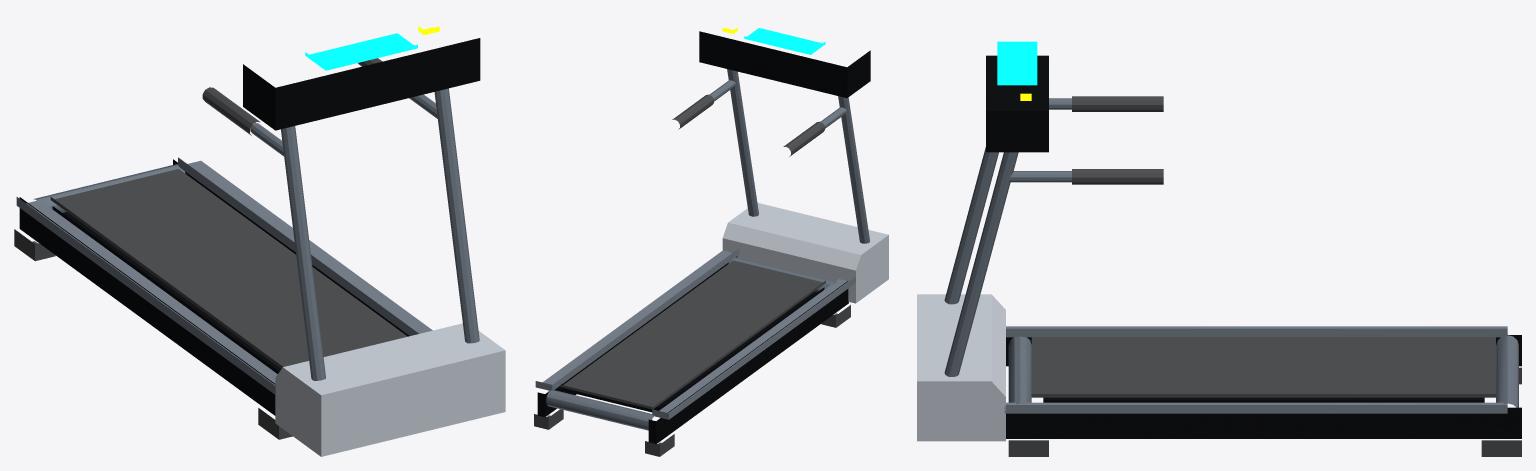
Rendered from tt_gym_treadmill.glb.
3 renders of one model, left to right at view 1: azimuth 30°, elevation 25°; view 2: azimuth 150°, elevation 25°; view 3: azimuth 270°, elevation 25°, orthographic. The views are drawn at different scales.
Parts seen in each view (by area): view 1: Belt, Motor_Hood, Side_Rails, Console, Uprights_Handrails, Frame_Rails, Console_Screen_LED, Deck_Board, Grip_Pads, Feet, Rollers_Hardware; view 2: Belt, Motor_Hood, Side_Rails, Console, Frame_Rails, Uprights_Handrails, Rollers_Hardware, Deck_Board, Feet, Grip_Pads, Console_Screen_LED; view 3: Belt, Frame_Rails, Motor_Hood, Side_Rails, Uprights_Handrails, Console, Rollers_Hardware, Grip_Pads, Deck_Board, Console_Screen_LED, Feet.
Boxes of the visible parts, box(x1,y1,x2,y2) form: Belt: box(50, 169, 407, 368); Motor_Hood: box(275, 323, 505, 456); Side_Rails: box(16, 157, 432, 394); Console: box(243, 38, 480, 130); Uprights_Handrails: box(250, 88, 479, 380); Frame_Rails: box(19, 159, 409, 415); Console_Screen_LED: box(305, 33, 417, 70); Deck_Board: box(52, 206, 281, 373); Grip_Pads: box(202, 58, 382, 135); Feet: box(14, 229, 292, 439); Rollers_Hardware: box(33, 164, 185, 212); Belt: box(560, 260, 825, 409); Motor_Hood: box(722, 202, 888, 303); Side_Rails: box(535, 248, 855, 419); Console: box(699, 31, 870, 97); Frame_Rails: box(537, 256, 848, 444); Uprights_Handrails: box(709, 69, 869, 243); Rollers_Hardware: box(546, 257, 837, 430); Deck_Board: box(561, 287, 824, 412); Feet: box(534, 305, 850, 456); Grip_Pads: box(672, 94, 824, 156); Console_Screen_LED: box(744, 28, 825, 54); Belt: box(1031, 337, 1495, 397); Frame_Rails: box(1006, 335, 1521, 438); Motor_Hood: box(917, 294, 1005, 441); Side_Rails: box(1004, 326, 1507, 413); Uprights_Handrails: box(944, 98, 1071, 376); Console: box(986, 55, 1048, 152); Rollers_Hardware: box(1008, 335, 1518, 407); Grip_Pads: box(1072, 96, 1163, 184); Deck_Board: box(1043, 397, 1484, 402); Console_Screen_LED: box(997, 41, 1037, 85); Feet: box(1008, 367, 1521, 456).
Size of what is drawn, in the model's own units: 0.8 by 1.38 by 2.11.
8 materials, 5 textured.
